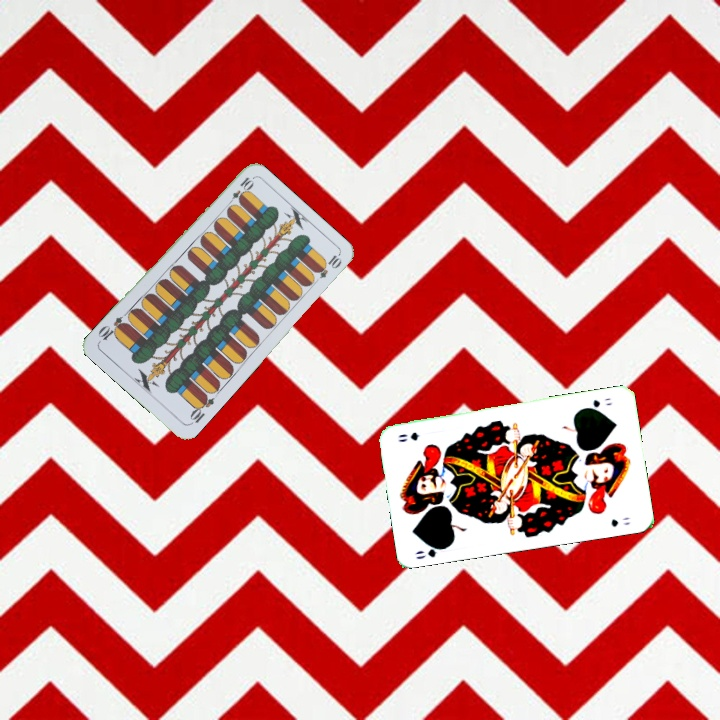E10: (185, 390, 217, 427), (224, 173, 256, 209)
GO: (411, 541, 451, 562), (579, 394, 614, 413)
